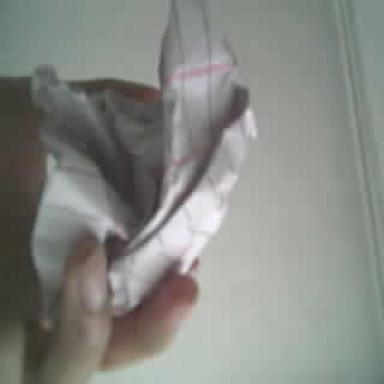paper: (32, 0, 254, 314)
